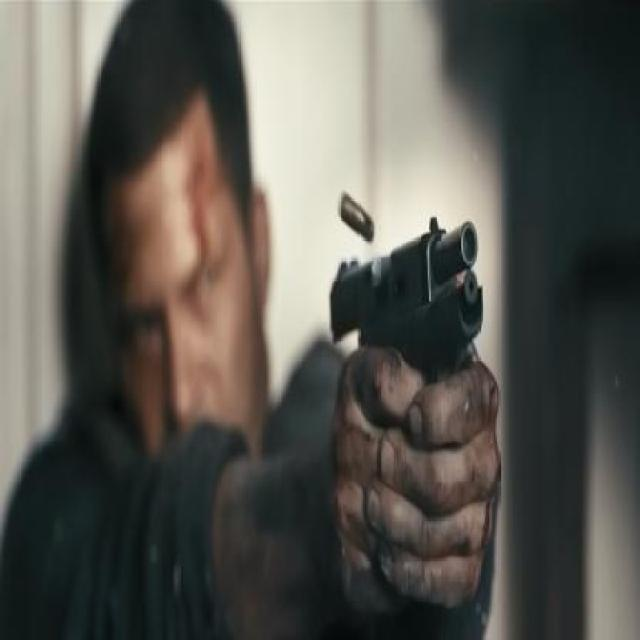gun: (318, 147, 496, 398)
